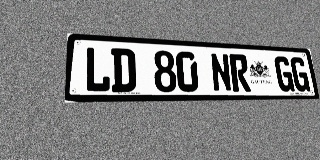0: (175, 51, 199, 92)
8: (153, 50, 177, 92)
D: (111, 48, 136, 92)
G: (274, 56, 295, 92), (290, 57, 310, 92)
L: (84, 47, 110, 92)
N: (210, 53, 232, 92)
R: (229, 54, 251, 92)
